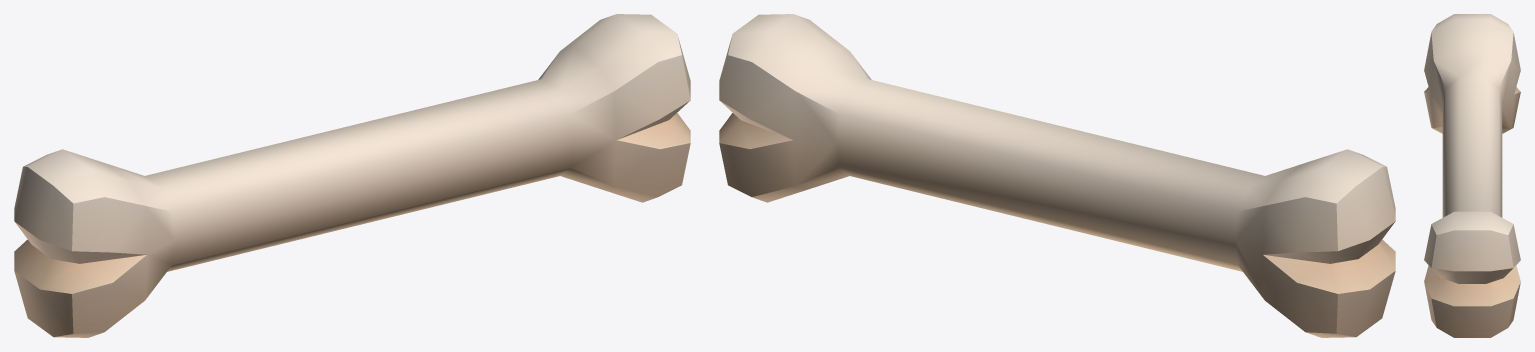
File: bone-c.glb
The picture shows the model from 3 angles, left to right: view 1: azimuth 30°, elevation 25°; view 2: azimuth 150°, elevation 25°; view 3: azimuth 270°, elevation 25°; orthographic projection. The views are drawn at different scales.
Visible parts, largest first — view 1: bone_C; view 2: bone_C; view 3: bone_C.
Boxes of the visible parts, x1,y1,x2,y2 form: bone_C: (14, 14, 690, 337); bone_C: (719, 14, 1395, 337); bone_C: (1424, 14, 1520, 337).
Bounding box in the file's own units: 1.11 × 0.2761 × 0.2007.
1 material, 1 textured.
